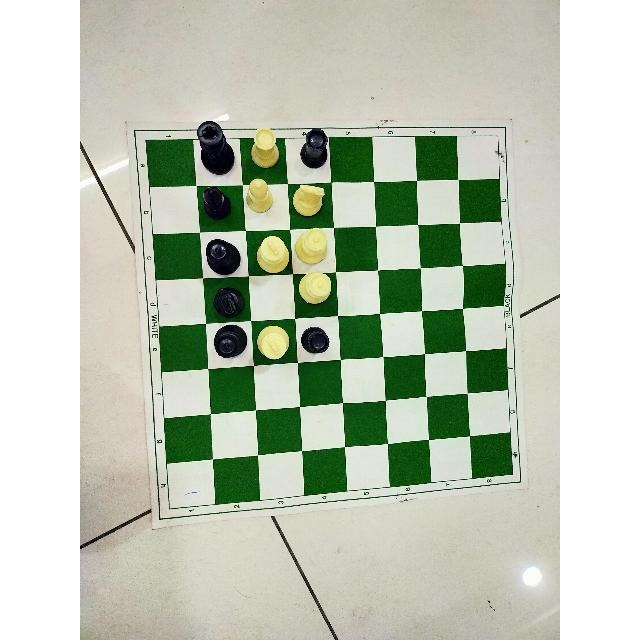black-bishop: (196, 183, 233, 227)
black-king: (189, 116, 238, 176)
black-knight: (211, 281, 249, 321)
black-queen: (199, 236, 241, 275), (207, 323, 247, 361)
black-rook: (296, 128, 330, 170), (299, 323, 335, 361)
white-bishop: (243, 174, 276, 212)
white-king: (256, 318, 292, 367), (253, 231, 289, 277)
white-knight: (291, 183, 330, 219)
white-queen: (292, 227, 332, 267), (298, 270, 336, 307)
white-rook: (246, 127, 280, 170)
